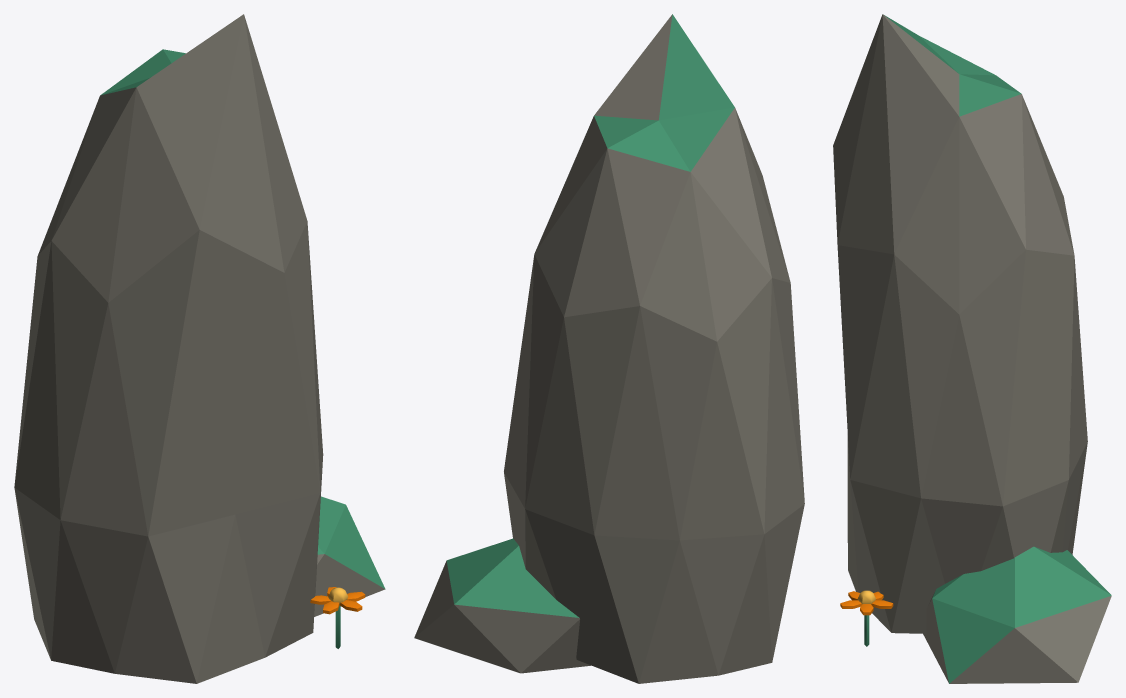
File: W3_Rock_B.fbx
The picture shows the model from 3 angles, left to right: view 1: azimuth 30°, elevation 25°; view 2: azimuth 150°, elevation 25°; view 3: azimuth 270°, elevation 25°; orthographic projection. The views are drawn at different scales.
Parts seen in each view (by area): view 1: W3_Rock_B; view 2: W3_Rock_B; view 3: W3_Rock_B.
Boxes of the visible parts, box(x1,y1,x2,y2) form: W3_Rock_B: box(14, 14, 385, 683); W3_Rock_B: box(414, 14, 804, 683); W3_Rock_B: box(833, 14, 1111, 683).
Size of the model in its own units: 2.74 by 4.96 by 2.11.
